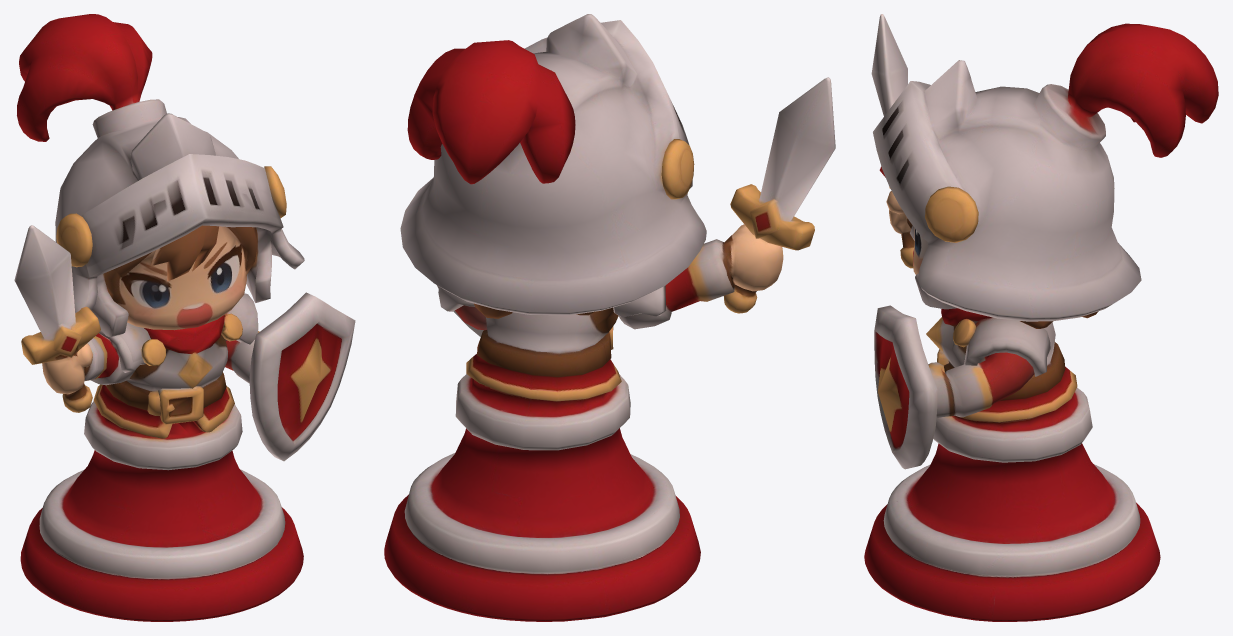
File: warrior_2.obj
The picture shows the model from 3 angles, left to right: view 1: azimuth 30°, elevation 25°; view 2: azimuth 150°, elevation 25°; view 3: azimuth 270°, elevation 25°; orthographic projection. The views are drawn at different scales.
Parts seen in each view (by area): view 1: warrior_2; view 2: warrior_2; view 3: warrior_2.
Boxes of the visible parts, x1,y1,x2,y2 form: warrior_2: (14, 14, 355, 621); warrior_2: (384, 14, 835, 621); warrior_2: (864, 14, 1218, 621).
Size of the model in its own units: 0.7407 by 0.9995 by 0.6128.
1 material, 1 textured.
